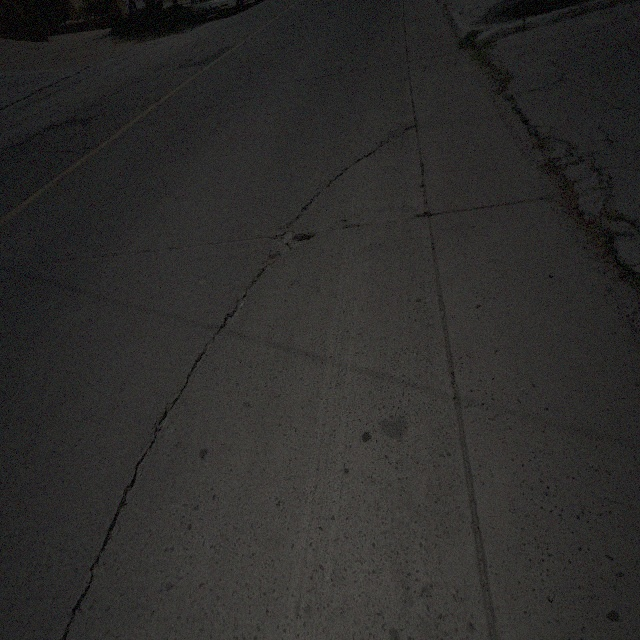pothole: (272, 228, 316, 262)
